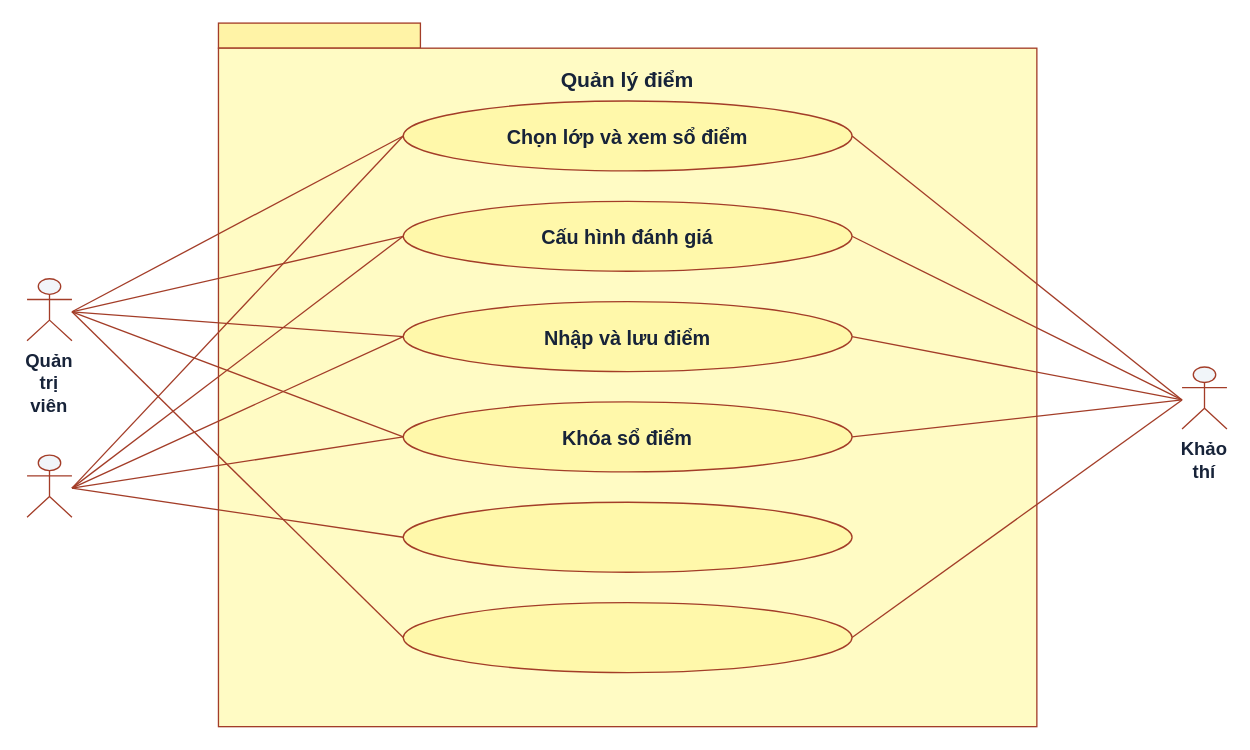
Image size: 1250x750. Some labels were removed from this diagram. The shapes that lost their labels are listed below. From the top down, each one's box as (x1, y1, x2, y2) in pixels, then its label:
(26, 454, 72, 517): Giảng viên
(402, 501, 852, 572): Yêu cầu mở khóa
(402, 601, 852, 673): Mở khóa sổ điểm
